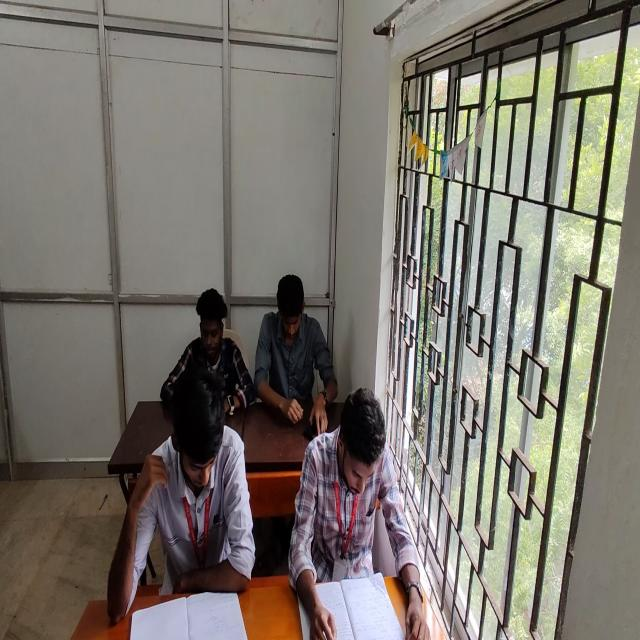reading: (108, 365, 255, 622), (290, 388, 412, 640)
using_mobile: (254, 274, 334, 435), (160, 287, 257, 416)
